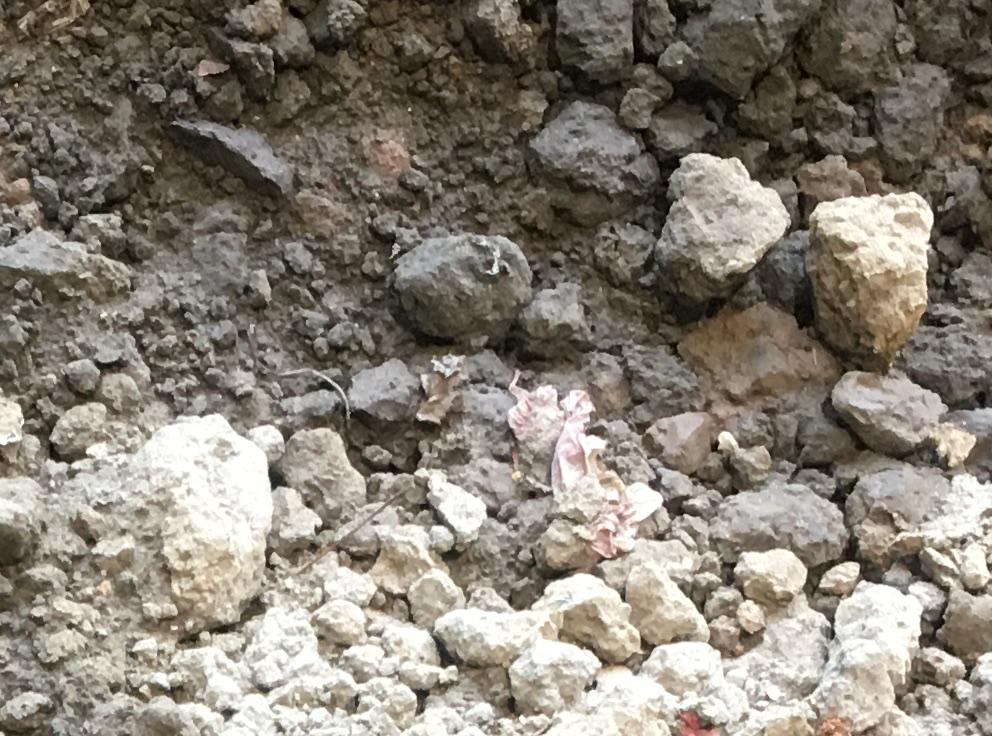block: (128, 414, 274, 635), (800, 192, 937, 362), (655, 152, 785, 300), (817, 573, 918, 730), (524, 103, 649, 219), (384, 235, 525, 335), (865, 59, 945, 183), (553, 1, 638, 84)
